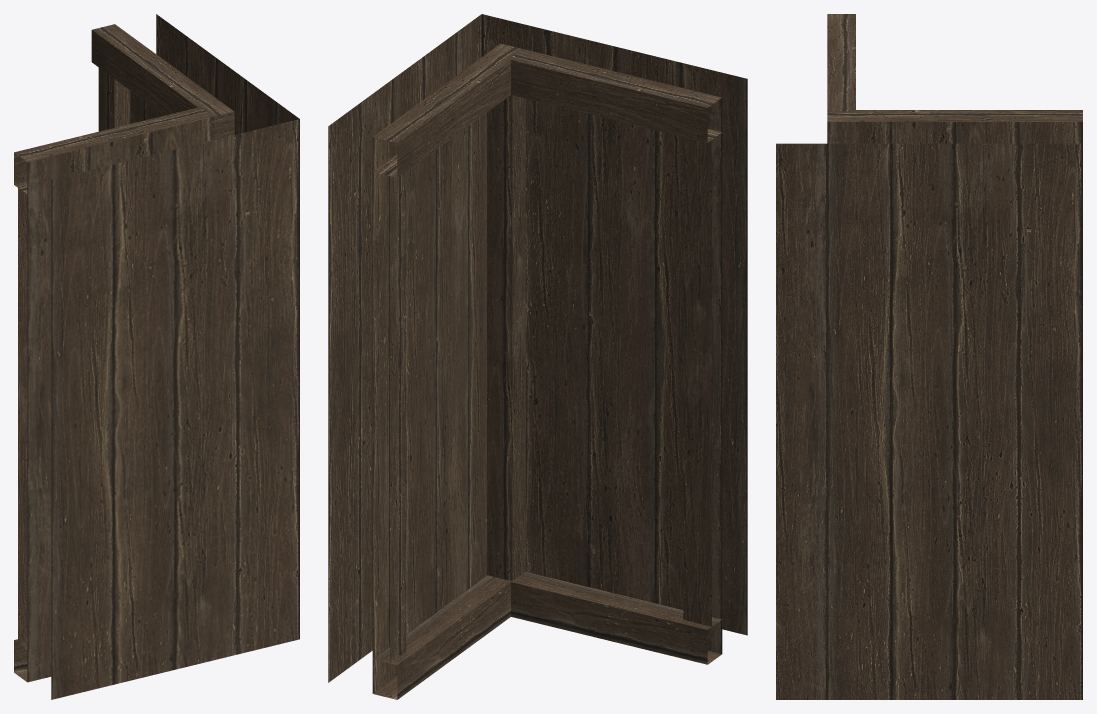
Rendered from ARC1010281.fbx.
The picture shows the model from 3 angles, left to right: view 1: azimuth 30°, elevation 25°; view 2: azimuth 150°, elevation 25°; view 3: azimuth 270°, elevation 25°; orthographic projection. The views are drawn at different scales.
Visible parts, largest first — view 1: smARC1010281; view 2: smARC1010281; view 3: smARC1010281.
Part boxes in pixels (left/top/right/bottom): smARC1010281: left=14, top=14, right=299, bottom=699; smARC1010281: left=328, top=14, right=747, bottom=699; smARC1010281: left=776, top=14, right=1082, bottom=699.
Bounding box in the file's own units: 134 × 268 × 134.
1 material, 1 textured.
